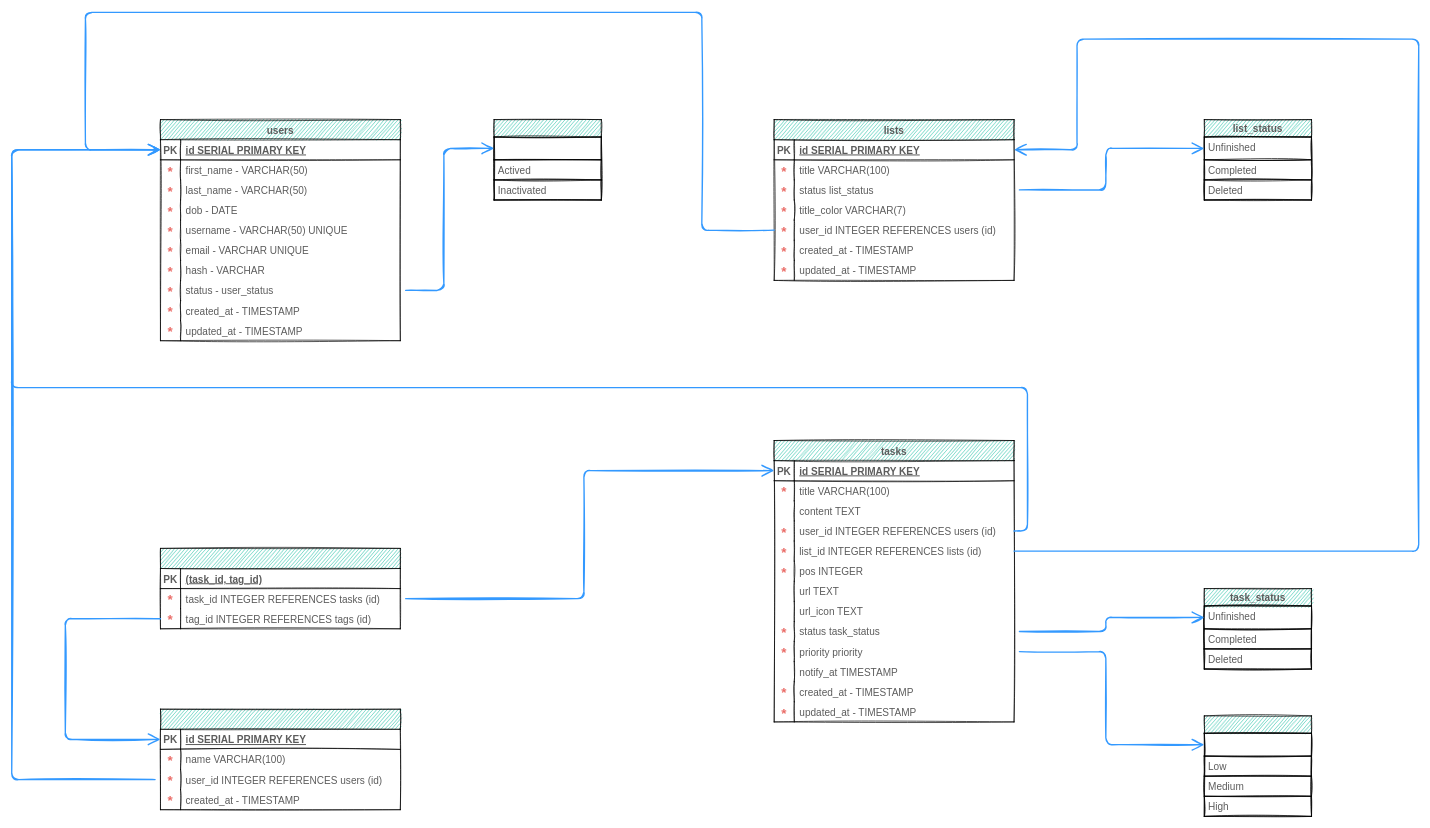
Image size: 1430x828. Some labels were removed from this diagram. The shapes that lost their labels are listed below. From the top down, each one's box as (x1, y1, x2, y2) in pixels, then its label:
(493, 136, 601, 160): Unverified
(493, 119, 601, 200): user_status
(160, 548, 400, 629): tasks_tags
(160, 709, 400, 810): tags
(1204, 733, 1312, 756): None
(1204, 715, 1312, 816): priority
